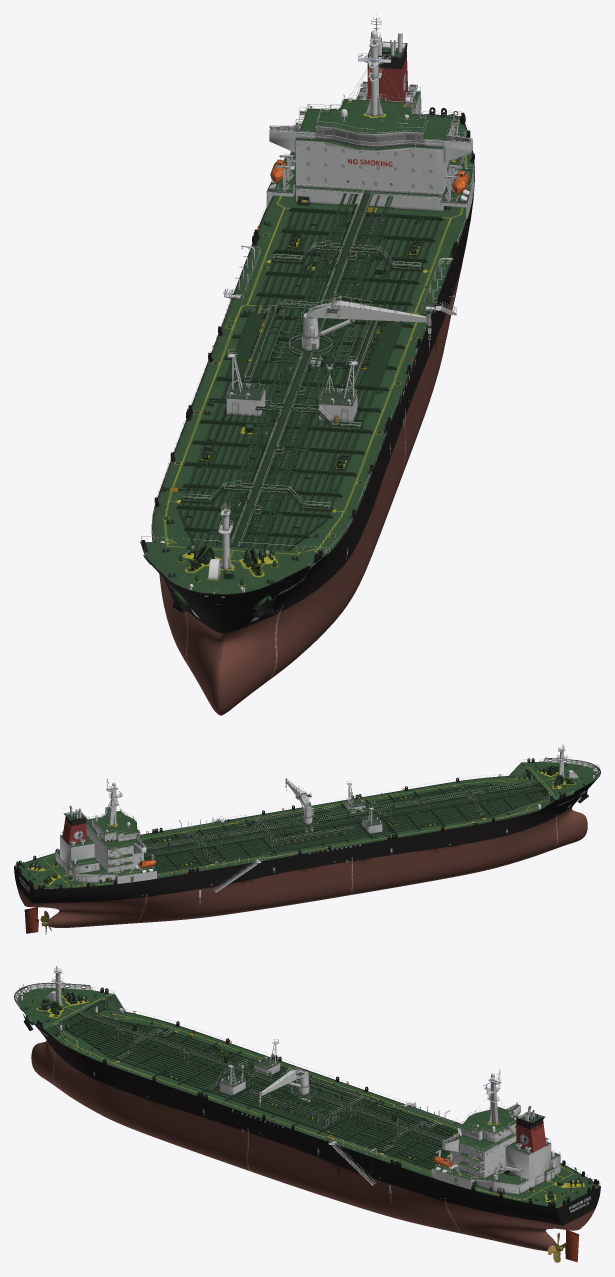
The model's file is tanker.glb.
The picture shows the model from 3 angles, top to bottom: view 1: azimuth 30°, elevation 25°; view 2: azimuth 150°, elevation 25°; view 3: azimuth 270°, elevation 25°; orthographic projection. The views are drawn at different scales.
Visible parts, largest first — view 1: tanker_mat_20_tanker_mat_0, tanker_mat_13_tanker_mat_0, tanker_mat_23_tanker_mat_0, tanker_mat_26_tanker_mat_0, tanker_mat_24_tanker_mat_0, tanker_mat_25_tanker_mat_0, tanker_mat_6_tanker_mat_0, tanker_mat_15_tanker_mat_0, tanker_mat_29_tanker_mat_0, tanker_mat_28_tanker_mat_0, tanker_mat_27_tanker_mat_0, tanker_mat_3_tanker_mat_0 (+2 smaller); view 2: tanker_mat_20_tanker_mat_0, tanker_mat_13_tanker_mat_0, tanker_mat_23_tanker_mat_0, tanker_mat_26_tanker_mat_0, tanker_mat_25_tanker_mat_0, tanker_mat_24_tanker_mat_0, tanker_mat_29_tanker_mat_0, tanker_mat_15_tanker_mat_0, tanker_mat_28_tanker_mat_0, tanker_mat_6_tanker_mat_0, tanker_mat_18_tanker_mat_0, tanker_mat_30_tanker_mat_0 (+5 smaller); view 3: tanker_mat_20_tanker_mat_0, tanker_mat_13_tanker_mat_0, tanker_mat_23_tanker_mat_0, tanker_mat_24_tanker_mat_0, tanker_mat_26_tanker_mat_0, tanker_mat_25_tanker_mat_0, tanker_mat_15_tanker_mat_0, tanker_mat_27_tanker_mat_0, tanker_mat_6_tanker_mat_0, tanker_mat_30_tanker_mat_0, tanker_mat_29_tanker_mat_0, tanker_mat_21_tanker_mat_0 (+3 smaller).
Part boxes in pixels (x1=…): tanker_mat_20_tanker_mat_0: x1=140, y1=41, x2=474, y2=715; tanker_mat_13_tanker_mat_0: x1=176, y1=207, x2=443, y2=550; tanker_mat_23_tanker_mat_0: x1=208, y1=184, x2=441, y2=548; tanker_mat_26_tanker_mat_0: x1=225, y1=322, x2=347, y2=548; tanker_mat_24_tanker_mat_0: x1=245, y1=220, x2=387, y2=547; tanker_mat_25_tanker_mat_0: x1=244, y1=259, x2=423, y2=435; tanker_mat_6_tanker_mat_0: x1=299, y1=295, x2=431, y2=367; tanker_mat_15_tanker_mat_0: x1=180, y1=442, x2=309, y2=548; tanker_mat_29_tanker_mat_0: x1=165, y1=294, x2=376, y2=552; tanker_mat_28_tanker_mat_0: x1=245, y1=204, x2=466, y2=449; tanker_mat_27_tanker_mat_0: x1=297, y1=94, x2=473, y2=209; tanker_mat_3_tanker_mat_0: x1=358, y1=14, x2=391, y2=116; tanker_mat_20_tanker_mat_0: x1=14, y1=757, x2=600, y2=927; tanker_mat_13_tanker_mat_0: x1=141, y1=783, x2=546, y2=872; tanker_mat_23_tanker_mat_0: x1=144, y1=780, x2=544, y2=860; tanker_mat_26_tanker_mat_0: x1=287, y1=779, x2=538, y2=844; tanker_mat_25_tanker_mat_0: x1=182, y1=792, x2=534, y2=864; tanker_mat_24_tanker_mat_0: x1=164, y1=805, x2=353, y2=863; tanker_mat_29_tanker_mat_0: x1=259, y1=773, x2=509, y2=860; tanker_mat_15_tanker_mat_0: x1=426, y1=778, x2=539, y2=817; tanker_mat_28_tanker_mat_0: x1=146, y1=780, x2=381, y2=875; tanker_mat_6_tanker_mat_0: x1=285, y1=778, x2=313, y2=832; tanker_mat_18_tanker_mat_0: x1=98, y1=816, x2=154, y2=882; tanker_mat_30_tanker_mat_0: x1=17, y1=831, x2=101, y2=889; tanker_mat_20_tanker_mat_0: x1=14, y1=983, x2=600, y2=1251; tanker_mat_13_tanker_mat_0: x1=66, y1=1015, x2=457, y2=1169; tanker_mat_23_tanker_mat_0: x1=70, y1=1010, x2=450, y2=1157; tanker_mat_24_tanker_mat_0: x1=75, y1=1017, x2=448, y2=1141; tanker_mat_26_tanker_mat_0: x1=69, y1=1016, x2=356, y2=1100; tanker_mat_25_tanker_mat_0: x1=80, y1=1021, x2=440, y2=1153; tanker_mat_15_tanker_mat_0: x1=78, y1=1008, x2=215, y2=1056; tanker_mat_27_tanker_mat_0: x1=435, y1=1114, x2=515, y2=1186; tanker_mat_6_tanker_mat_0: x1=259, y1=1067, x2=310, y2=1106; tanker_mat_30_tanker_mat_0: x1=484, y1=1137, x2=600, y2=1205; tanker_mat_29_tanker_mat_0: x1=62, y1=1031, x2=404, y2=1105; tanker_mat_21_tanker_mat_0: x1=15, y1=983, x2=123, y2=1043.
Bounding box in the file's own units: 10.7 × 4.17 × 12.82.
3 materials, 1 textured.
